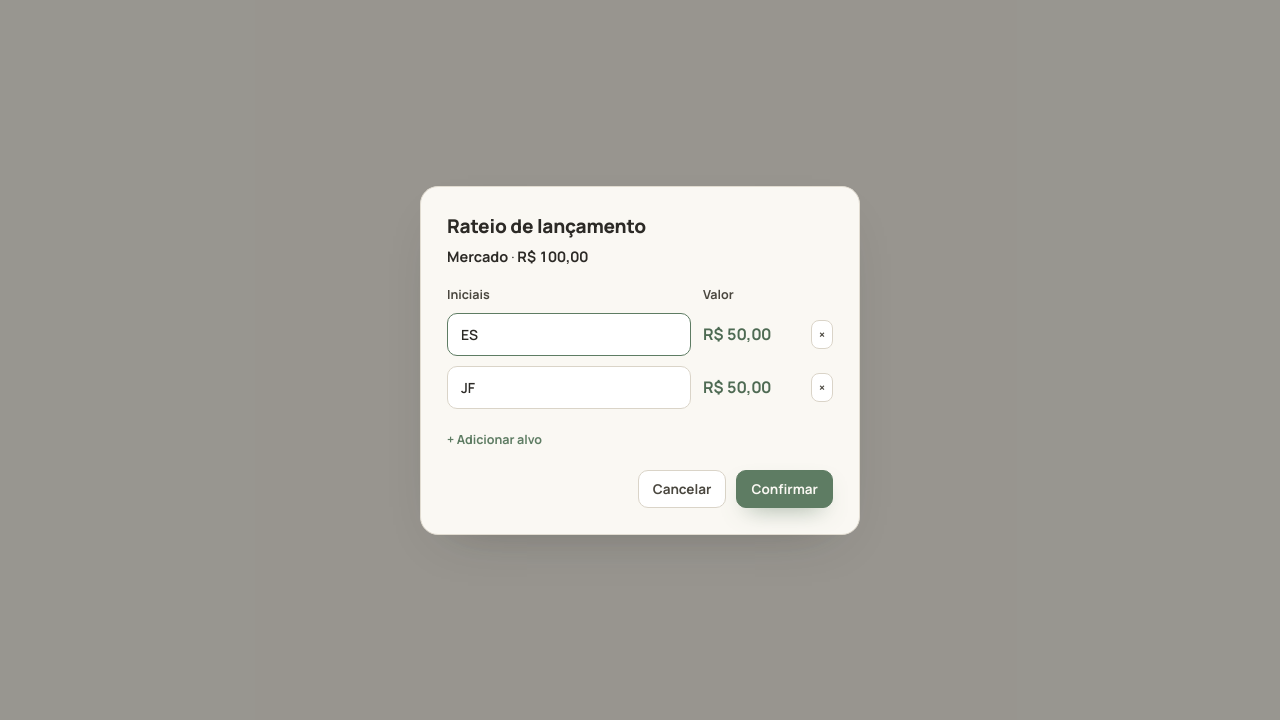
Test: SplitModal — edição de alvos › TL-05: botão "Adicionar alvo" insere nova entrada na lista
Expected: the number of fields is 2, top-left (447, 312), bottom-right (691, 356); top-left (447, 366), bottom-right (691, 408)
Click the button "+ Adicionar alvo".
click(495, 439)  # box top-left (447, 430), bottom-right (542, 448)
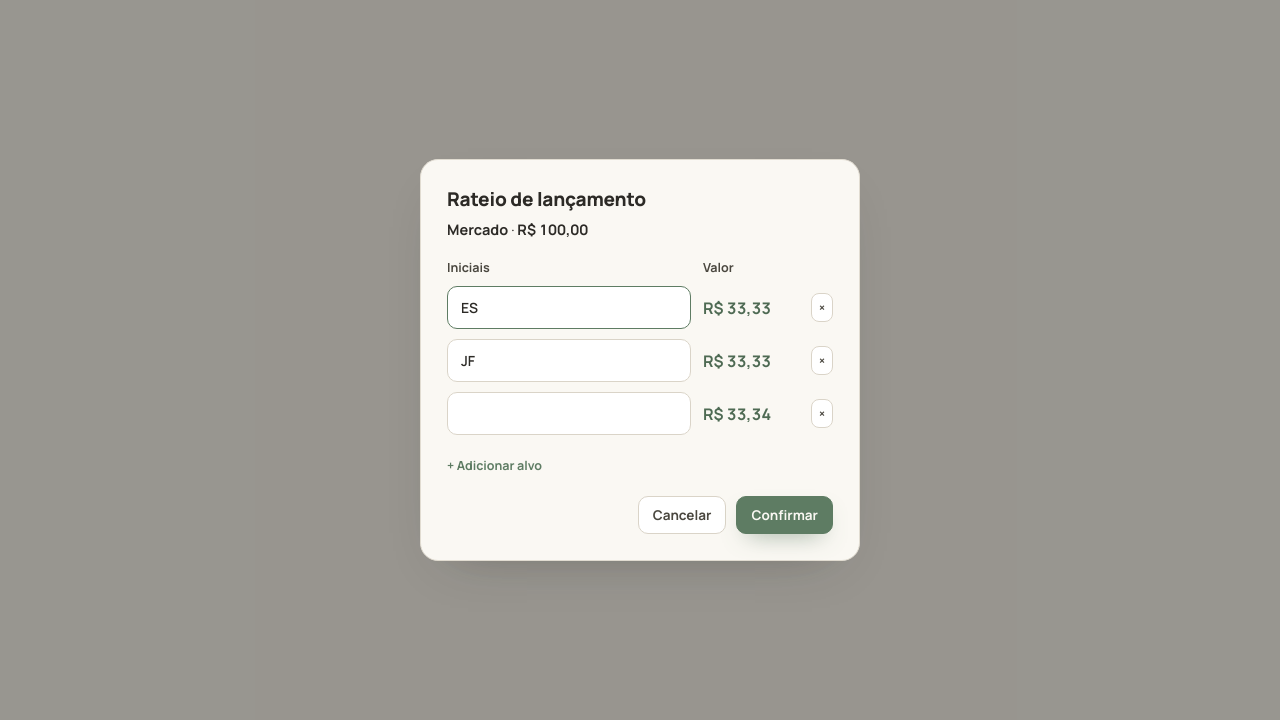
Now the number of fields is 3, box top-left (447, 286), bottom-right (691, 329); top-left (447, 339), bottom-right (691, 382); top-left (447, 392), bottom-right (691, 435)
